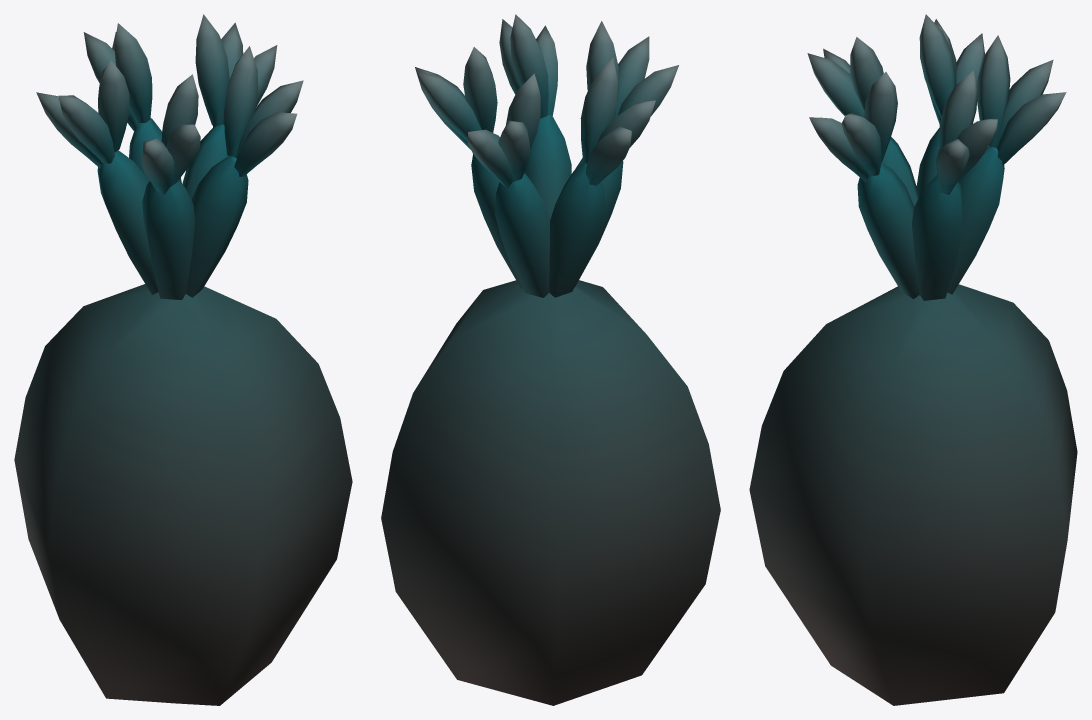
Rendered from plants-leafy-plants-leafy-bulb_v4.fbx.
3 views of the same model, side by side, from view 1: azimuth 30°, elevation 25°; view 2: azimuth 150°, elevation 25°; view 3: azimuth 270°, elevation 25° (orthographic).
Visible parts, largest first — view 1: Leafy Bulb_v4; view 2: Leafy Bulb_v4; view 3: Leafy Bulb_v4.
Part boxes in pixels (left/top/right/bottom): Leafy Bulb_v4: left=14, top=14, right=352, bottom=705; Leafy Bulb_v4: left=381, top=14, right=720, bottom=705; Leafy Bulb_v4: left=749, top=14, right=1077, bottom=705.
Size of the model in its own units: 0.1877 by 0.4 by 0.1813.
